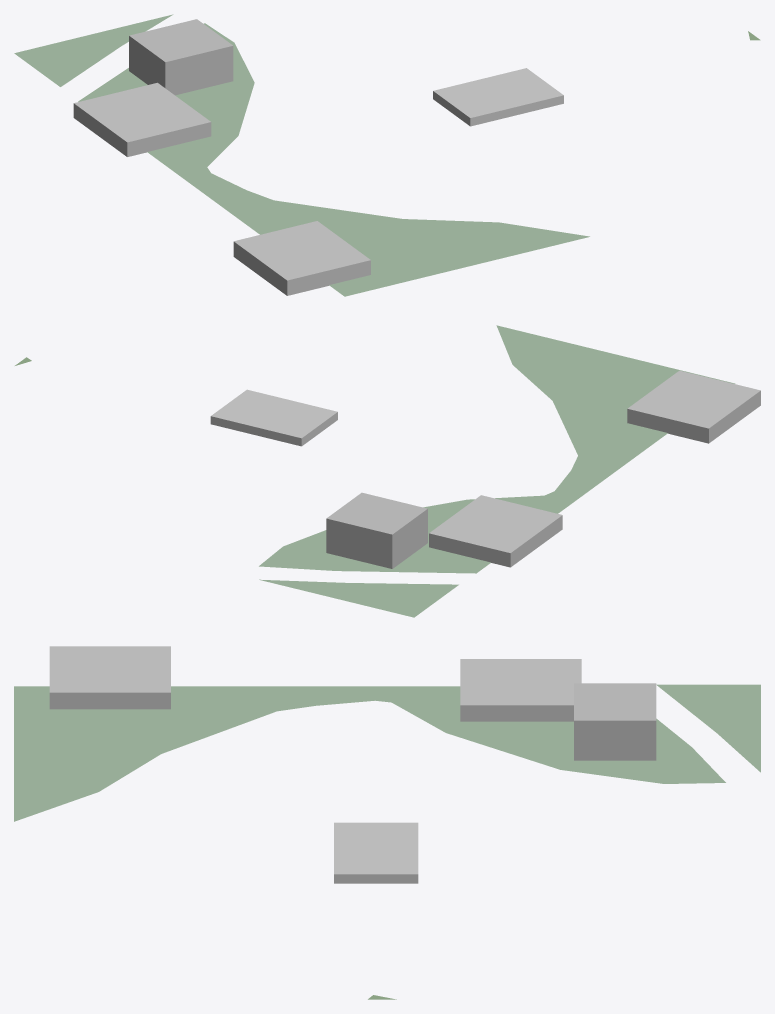
Rendered from 130_77_mid.glb.
3 renders of one model, top to bottom at view 1: azimuth 30°, elevation 25°; view 2: azimuth 150°, elevation 25°; view 3: azimuth 270°, elevation 25°, orthographic. The views are drawn at different scales.
Bounding box in the file's own units: 536 × 30.74 × 500.
